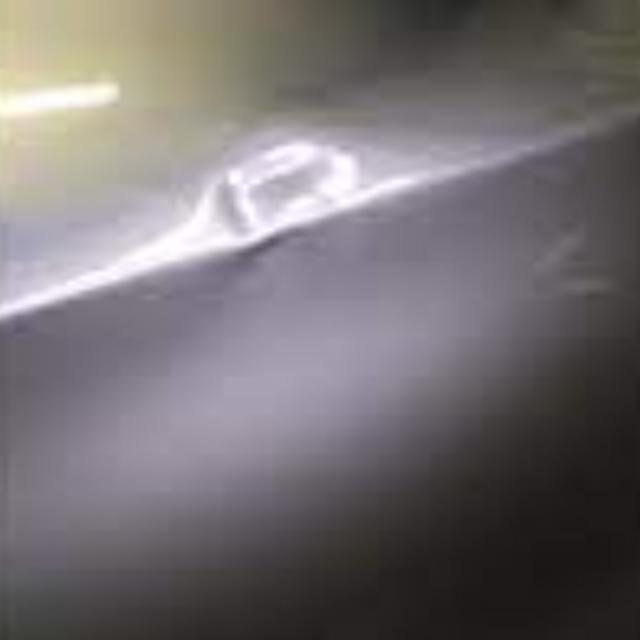dents: (116, 104, 466, 329)
